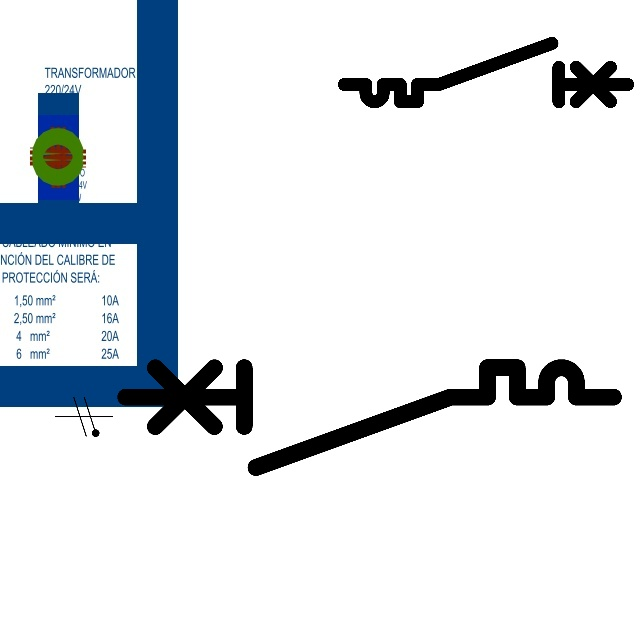interruptor_termomagnetico: (113, 355, 626, 480), (337, 36, 635, 109)
